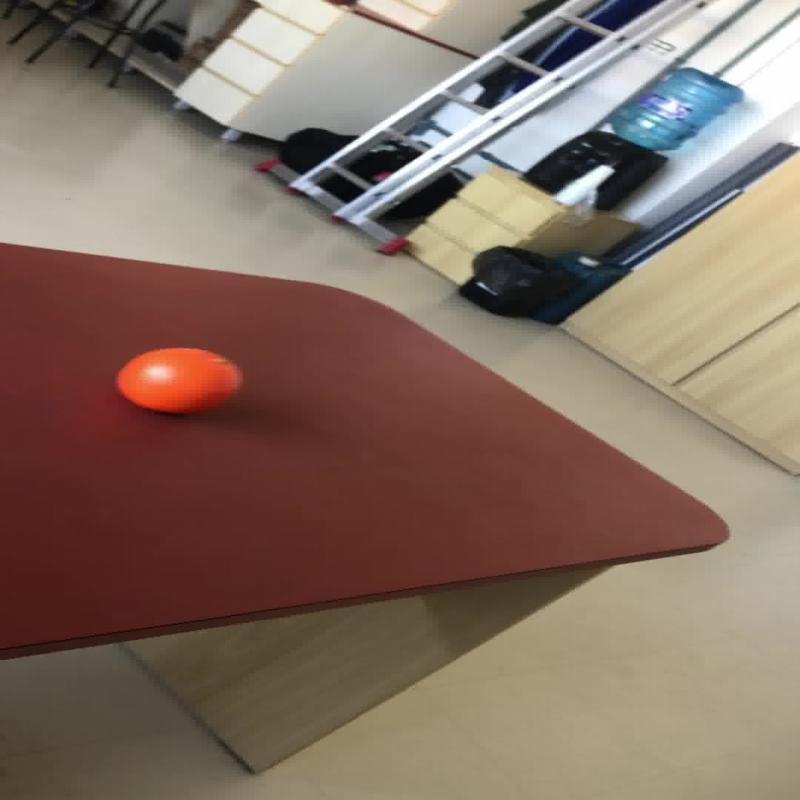orange: (114, 346, 242, 414)
